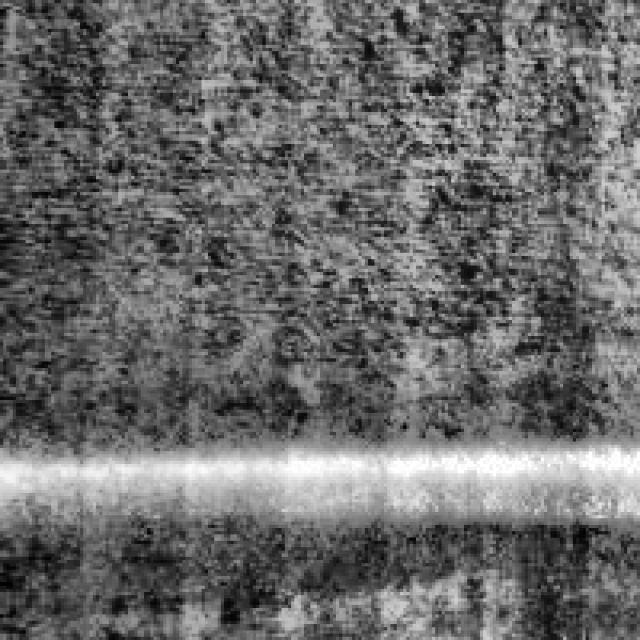Inclusion: (0, 432, 634, 518)
